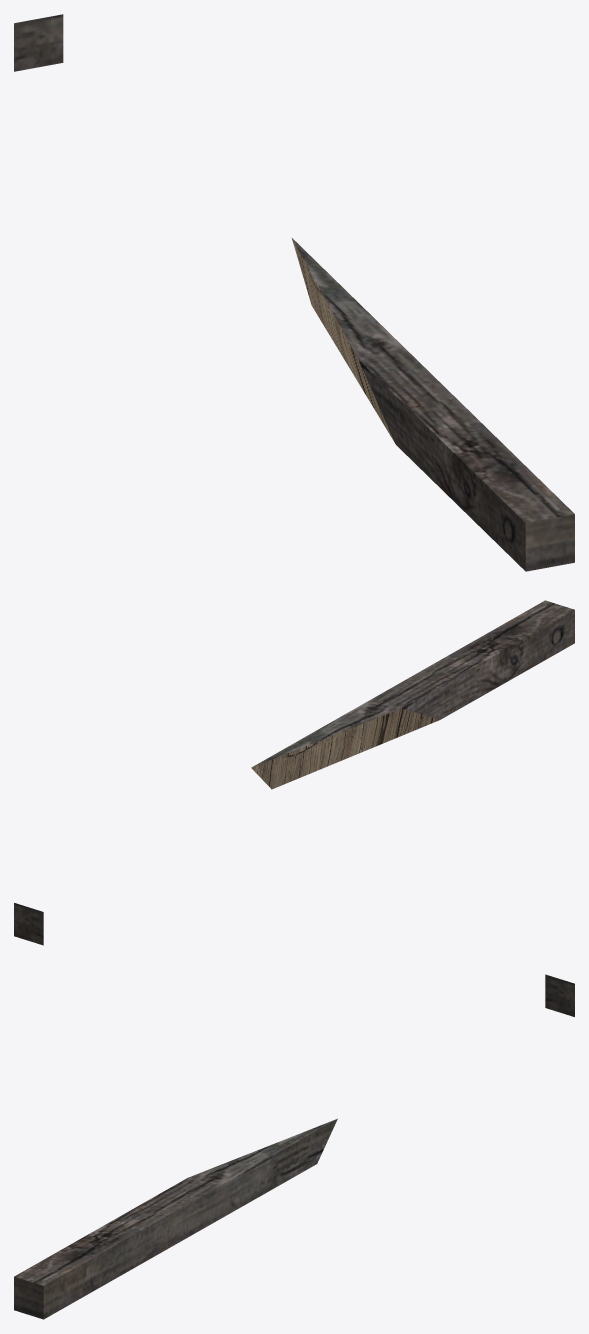
File: shackwall01_dmg05_j.glb
The picture shows the model from 3 angles, top to bottom: view 1: azimuth 30°, elevation 25°; view 2: azimuth 150°, elevation 25°; view 3: azimuth 330°, elevation 25°; orthographic projection. The views are drawn at different scales.
Visible parts, largest first — view 1: shackwall01_dmg05_j; view 2: shackwall01_dmg05_j; view 3: shackwall01_dmg05_j.
Part boxes in pixels (x1=…): shackwall01_dmg05_j: x1=14, y1=14, x2=574, y2=571; shackwall01_dmg05_j: x1=14, y1=600, x2=574, y2=945; shackwall01_dmg05_j: x1=14, y1=974, x2=574, y2=1319.
Size of the model in its own units: 0.1814 by 0.0483 by 1.16.
Materials: 1 (1 with a texture image).
